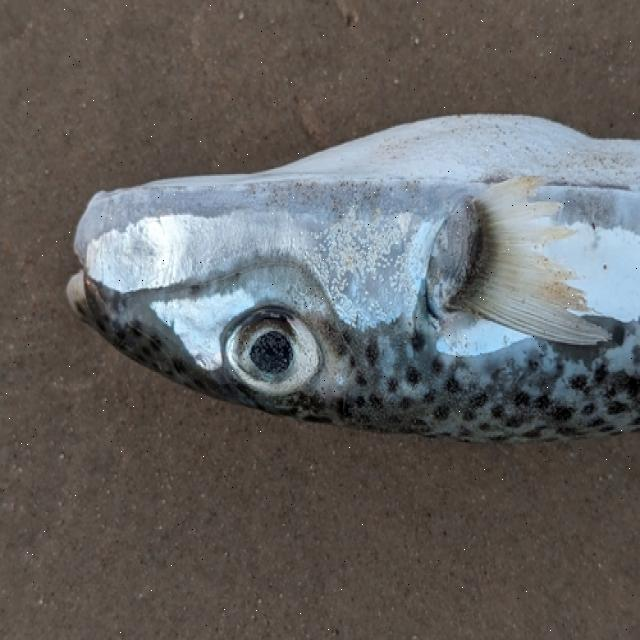Balik: (68, 117, 639, 440)
